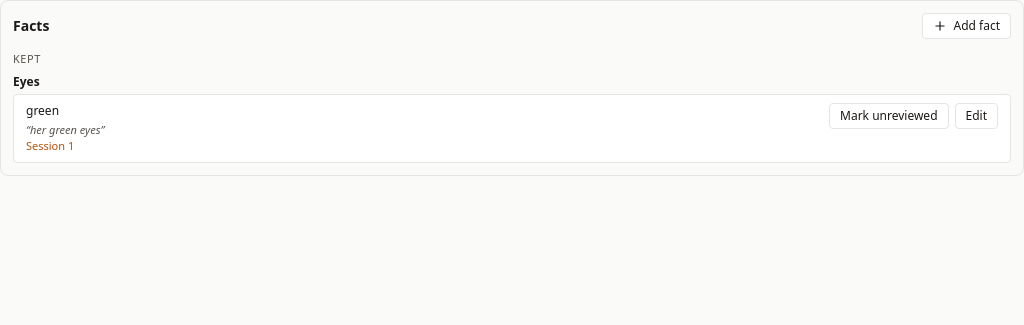
Test: EntityPanel › edits the attribute and value of a fact
Click the button "Edit" at (976, 116), box [954,102,998,128]
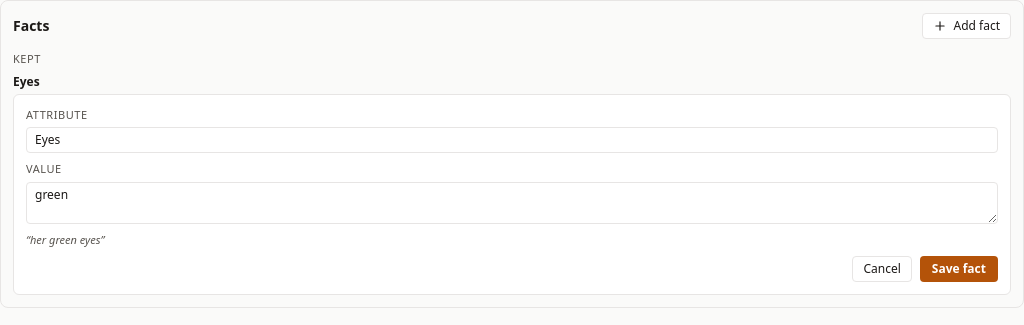
Replace the text in the field labelled "Attribute" with "Hair" at (512, 140), box [26,127,998,153]
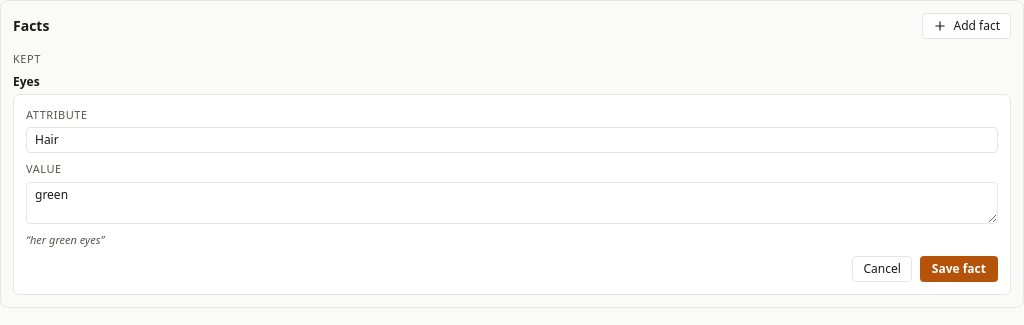
Replace the text in the text box labelled "Value" with "red" at (512, 202), box [26,182,998,224]
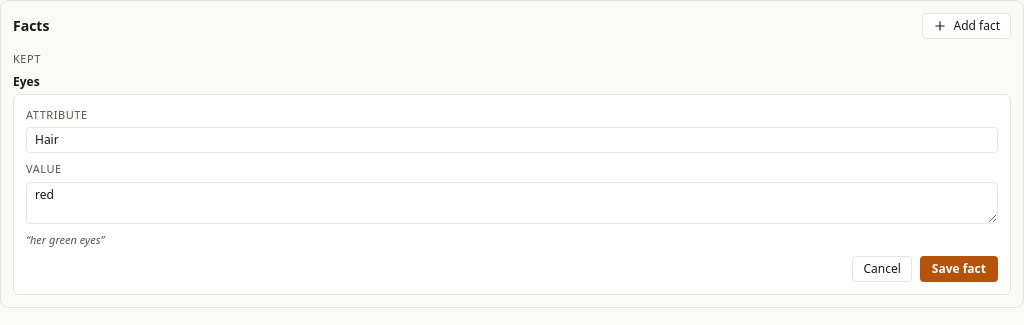
Click the button "Save fact" at (959, 269), box [920,256,998,282]
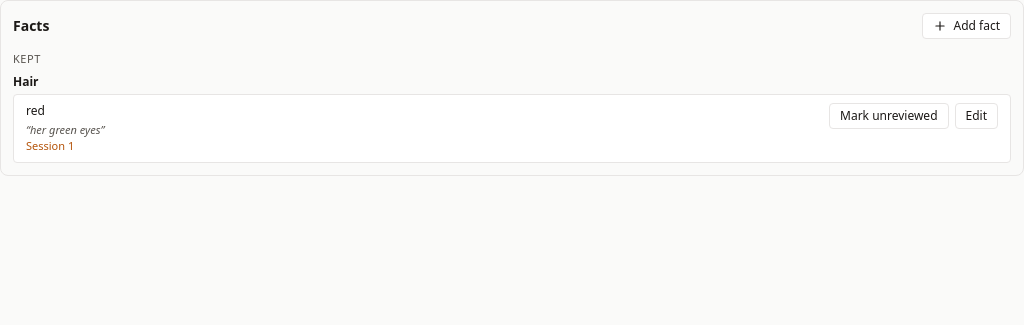
Result: the heading "Hair" is shown at [13,74,38,90]
Result: the text "red" is shown at [26,102,45,118]
